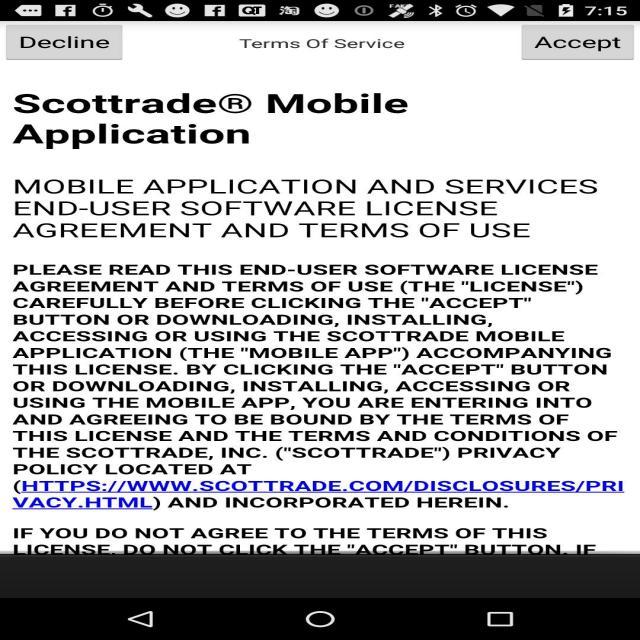button: (7, 26, 122, 56), (525, 26, 632, 58)
text: (4, 63, 640, 550)
